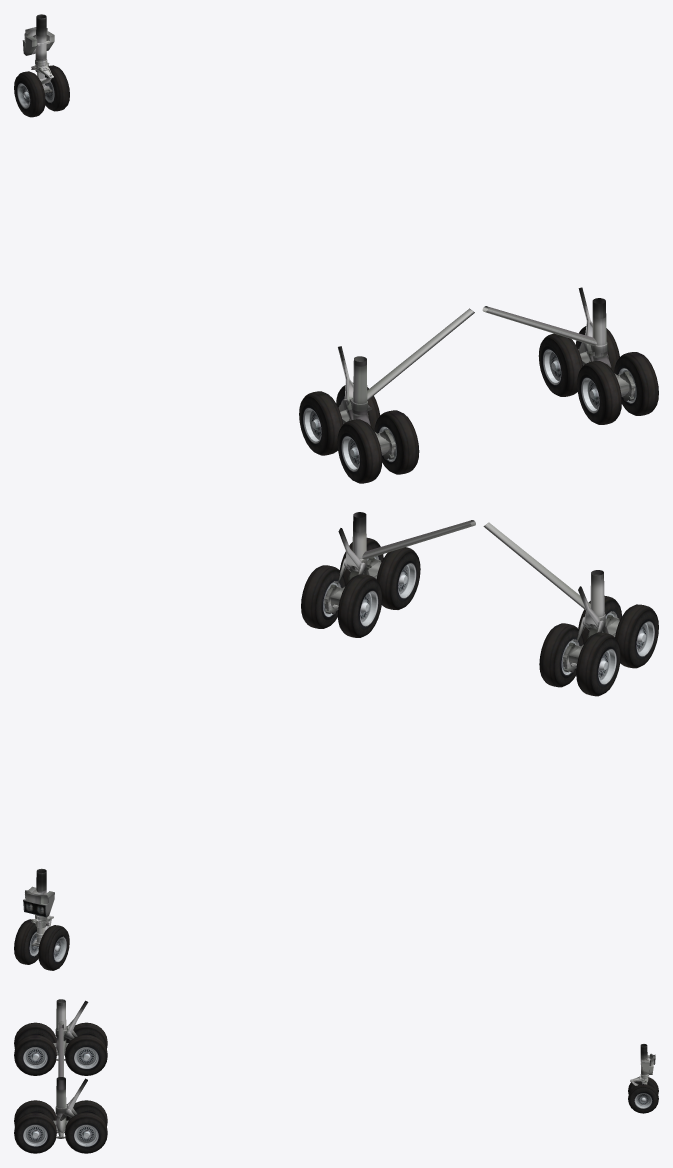
The picture shows the model from 3 angles, top to bottom: view 1: azimuth 30°, elevation 25°; view 2: azimuth 150°, elevation 25°; view 3: azimuth 270°, elevation 25°; orthographic projection. The views are drawn at different scales.
Parts seen in each view (by area): view 1: WheelBack (×2), WheelFront (×2), NoseWheel, NGear, LeftGear.001, RightGear.001, LeftGear, RightGear; view 2: WheelFront (×2), WheelBack (×2), NoseWheel, NGear, LeftGear.001, RightGear.001, RightGear, LeftGear; view 3: WheelBack (×2), WheelFront (×2), NoseWheel, NGear, RightGear, LeftGear, RightGear.001, RightGearCompressor1, LeftGearCompressor1.
Boxes of the visible parts, left/top/right/bottom form: WheelBack (×2): left=337, top=352, right=658, bottom=483; WheelFront (×2): left=299, top=326, right=619, bottom=455; NoseWheel: left=14, top=65, right=69, bottom=117; NGear: left=22, top=14, right=54, bottom=84; LeftGear.001: left=367, top=308, right=474, bottom=400; RightGear.001: left=482, top=306, right=596, bottom=345; LeftGear: left=349, top=356, right=372, bottom=414; RightGear: left=587, top=298, right=607, bottom=356; WheelFront (×2): left=301, top=565, right=620, bottom=696; WheelBack (×2): left=339, top=537, right=658, bottom=668; NoseWheel: left=14, top=919, right=69, bottom=970; NGear: left=23, top=868, right=54, bottom=930; LeftGear.001: left=483, top=522, right=590, bottom=609; RightGear.001: left=362, top=520, right=475, bottom=559; RightGear: left=347, top=512, right=371, bottom=571; LeftGear: left=585, top=570, right=605, bottom=629; WheelBack (×2): left=14, top=1022, right=56, bottom=1153; WheelFront (×2): left=65, top=1022, right=107, bottom=1153; NoseWheel: left=628, top=1076, right=658, bottom=1113; NGear: left=630, top=1044, right=655, bottom=1085; RightGear: left=55, top=1077, right=67, bottom=1116; LeftGear: left=55, top=999, right=67, bottom=1038; RightGear.001: left=58, top=1028, right=63, bottom=1077; RightGearCompressor1: left=60, top=1078, right=87, bottom=1120; LeftGearCompressor1: left=63, top=1000, right=88, bottom=1040.
Bounding box in the file's own units: 6.79 × 2.8 × 19.37.
2 materials, 2 textured.
